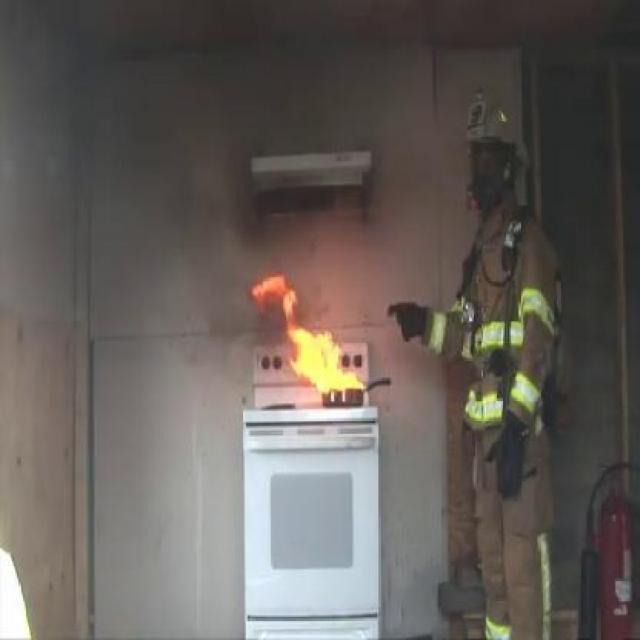fire: (286, 324, 366, 392), (254, 277, 308, 320)
